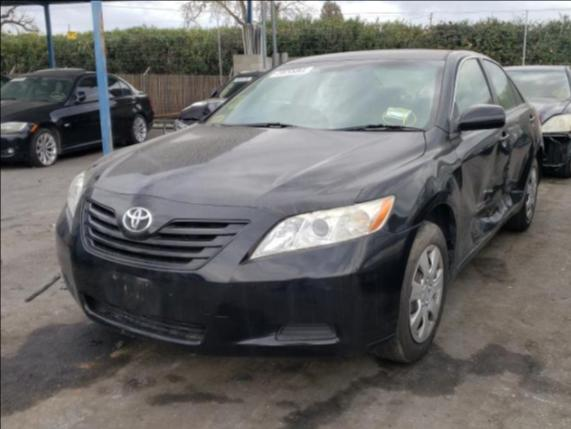Broken part: (450, 128, 512, 267)
Dent: (462, 142, 507, 244), (408, 163, 460, 219), (503, 124, 536, 211)
Missing part: (98, 273, 162, 320)
Scratch: (478, 199, 507, 222), (507, 123, 524, 148), (472, 140, 495, 154), (475, 230, 489, 242), (418, 187, 425, 204), (476, 201, 485, 212), (506, 198, 513, 206), (482, 188, 493, 193), (450, 161, 457, 167), (510, 190, 518, 192), (441, 165, 444, 167)
